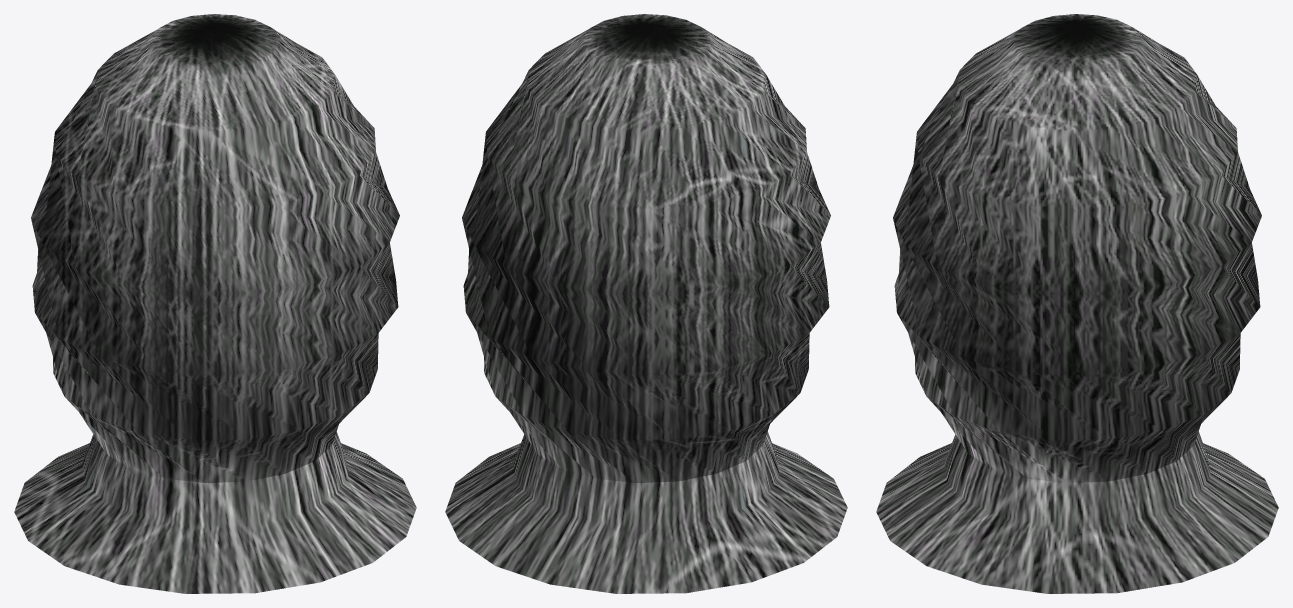
The model's file is INST_EGGSACK_DESTRUCT.fbx.
3 views of the same model, side by side, from view 1: azimuth 30°, elevation 25°; view 2: azimuth 150°, elevation 25°; view 3: azimuth 270°, elevation 25° (orthographic).
Parts seen in each view (by area): view 1: INST_EGGSACK_DESTRUCT; view 2: INST_EGGSACK_DESTRUCT; view 3: INST_EGGSACK_DESTRUCT.
Part boxes in pixels (box(x1,y1,x2,y2)): INST_EGGSACK_DESTRUCT: box(14, 14, 416, 593); INST_EGGSACK_DESTRUCT: box(445, 14, 847, 593); INST_EGGSACK_DESTRUCT: box(876, 14, 1278, 593).
Bounding box in the file's own units: 6121 × 8185 × 6188.
4 materials, 4 textured.
